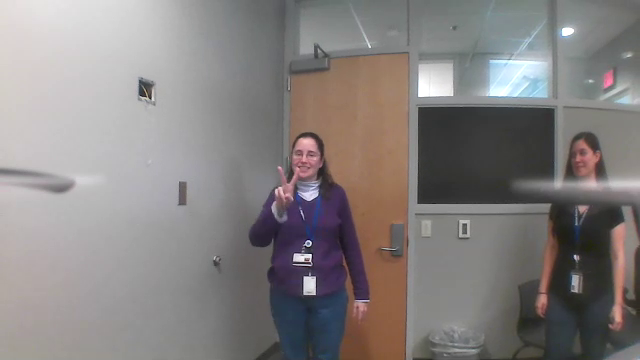peace: (265, 159, 305, 212)
